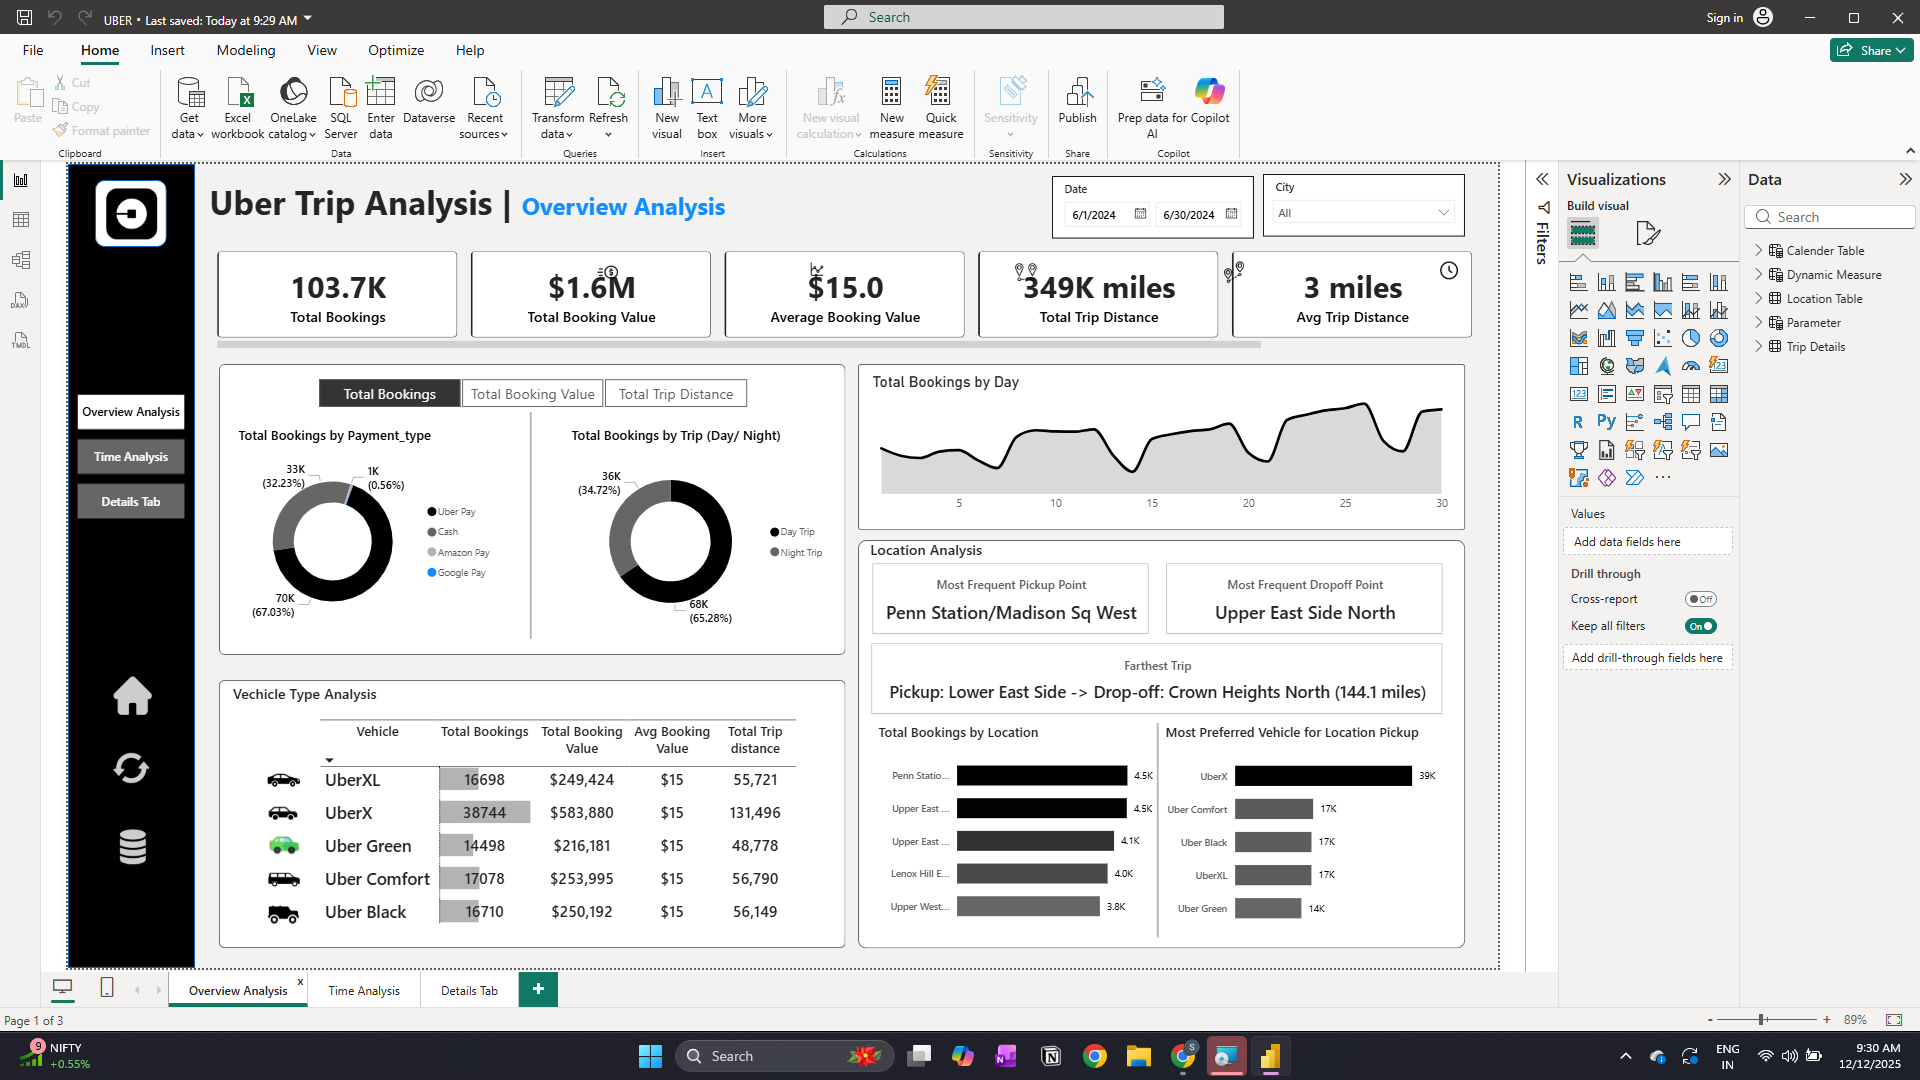

The dashboard page shown, as its layout file describes it:
{"tool":"powerbi","page":{"name":"Overview Analysis","canvas":[1600,900],"ordinal":0},"visuals":[{"type":"shape","box":[0,0,142,899.7],"z":0},{"type":"textbox","box":[152.8,12.6,666.8,69.5],"z":1000},{"type":"cardVisual","fields":{"Data":["Trip Details.Total Bookings","Trip Details.Total Booking Amount","Trip Details.Average Booking Amount","Trip Details.Total Trip Distance","Trip Details.Avg Trip Distance","Trip Details.Avg Trip Time"]},"box":[162,93,1415,120],"z":2000},{"type":"image","box":[587.2,103.6,32.8,34.1],"z":3000},{"type":"image","box":[1051.9,103.6,39.1,34.1],"z":4000},{"type":"image","box":[1285.6,103.6,41.7,34.1],"z":5000},{"type":"image","box":[819.6,103.6,37.9,26.5],"z":6000},{"type":"image","box":[1528,103.6,35.4,30.3],"z":7000},{"type":"shape","box":[168.6,224.3,701.4,325.7],"z":8000},{"type":"slicer","fields":{"Values":["Dynamic Measure.Dynamic Measure"]},"box":[255.7,234.3,528.6,44.3],"z":9000},{"type":"donutChart","fields":{"Y":["Trip Details.Total Bookings"],"Category":["Trip Details.Payment_type"]},"box":[185.7,292.9,300,238.6],"z":10000},{"type":"donutChart","fields":{"Y":["Trip Details.Total Bookings"],"Category":["Trip Details.Trip Type (Day/ Night)"]},"box":[558.6,292.9,300,238.6],"z":11000},{"type":"shape","box":[168.6,577.1,701.4,300],"z":12000},{"type":"pivotTable","fields":{"Rows":["Trip Details.Vehicle"],"Values":["Trip Details.Total Bookings","Trip Details.Total Booking Value","Trip Details.Average Booking Value","Trip Details.Total Trip distance Measure"]},"box":[277.1,617.1,561.4,245.7],"z":13000},{"type":"image","box":[212.9,817.1,57.1,45.7],"z":14000},{"type":"image","box":[215.7,662.9,51.4,54.3],"z":15000},{"type":"image","box":[217.1,774.3,48.6,52.9],"z":16000},{"type":"image","box":[220,740,42.9,44.3],"z":17000},{"type":"image","box":[208.6,705.7,64.3,42.9],"z":18000},{"type":"cardVisual","fields":{"Data":["Trip Details.Title for Grid"]},"box":[164.3,560,201.4,57.1],"z":19000},{"type":"shape","box":[883.9,223.7,679.6,186],"z":20000},{"type":"areaChart","fields":{"Category":["Calender Table.Date.Variation.Date Hierarchy.Day"],"Y":["Trip Details.Total Bookings"]},"box":[895.7,234.3,657,164.3],"z":21000},{"type":"shape","box":[883.9,420.7,679.6,457.1],"z":22000},{"type":"cardVisual","fields":{"Data":["Trip Details.Most Frequent Pickup Point","Trip Details.Most Frequent Dropoff Point"]},"box":[895.8,442.1,649.4,90],"z":23000},{"type":"cardVisual","fields":{"Data":["Trip Details.Farthest Trip"]},"box":[894.5,532,649.4,90],"z":24000},{"type":"barChart","fields":{"Category":["Location Table.Location"],"Y":["Trip Details.Total Bookings"]},"box":[902.4,625.9,320.8,237.3],"z":25000},{"type":"barChart","title":"Most Preferred Vehicle for Location Pickup","fields":{"Category":["Trip Details.Vehicle"],"Y":["CountNonNull(Trip Details.PULocationID)"]},"box":[1223.1,625.9,320.8,239.9],"z":26000},{"type":"shape","box":[500.7,277.8,35.2,254.3],"z":27000},{"type":"shape","box":[1202.3,625.9,35.2,239.9],"z":28000},{"type":"cardVisual","fields":{"Data":["Trip Details.Title for Location"]},"box":[869.8,399,182.6,57.4],"z":29000},{"type":"slicer","fields":{"Values":["Calender Table.Date"]},"box":[1101.9,13,225.6,70.4],"z":30000},{"type":"slicer","fields":{"Values":["Location Table.City"]},"box":[1337.9,11.7,225.6,70.4],"z":31000},{"type":"shape","box":[30.3,18.4,80.3,75],"z":31001},{"type":"image","box":[35.5,22.4,71.1,67.1],"z":31002},{"type":"pageNavigator","box":[10.5,257.9,121.1,140.8],"z":31003},{"type":"image","box":[46.1,568.4,52.6,52.6],"z":31004},{"type":"image","box":[46.1,648.7,50,55.3],"z":31006},{"type":"image","box":[43.4,739.5,57.9,48.7],"z":31007}]}

Visuals, with their boxes on the page's 1600x900 design canvas (x1, y1, x2, y2). These are canvas units, not pixel positions in the 1920x1080 screenshot, which may show the page scaled, cropped or inside an application window:
shape: detection(0, 0, 142, 900)
textbox: detection(153, 13, 820, 82)
cardVisual - Trip Details.Total Bookings x Trip Details.Total Booking Amount: detection(162, 93, 1577, 213)
image: detection(587, 104, 620, 138)
image: detection(1052, 104, 1091, 138)
image: detection(1286, 104, 1327, 138)
image: detection(820, 104, 858, 130)
image: detection(1528, 104, 1563, 134)
shape: detection(169, 224, 870, 550)
slicer - Dynamic Measure.Dynamic Measure: detection(256, 234, 784, 279)
donutChart - Trip Details.Total Bookings x Trip Details.Payment_type: detection(186, 293, 486, 532)
donutChart - Trip Details.Total Bookings x Trip Details.Trip Type (Day/ Night): detection(559, 293, 859, 532)
shape: detection(169, 577, 870, 877)
pivotTable - Trip Details.Vehicle x Trip Details.Total Bookings: detection(277, 617, 838, 863)
image: detection(213, 817, 270, 863)
image: detection(216, 663, 267, 717)
image: detection(217, 774, 266, 827)
image: detection(220, 740, 263, 784)
image: detection(209, 706, 273, 749)
cardVisual - Trip Details.Title for Grid: detection(164, 560, 366, 617)
shape: detection(884, 224, 1564, 410)
areaChart - Calender Table.Date.Variation.Date Hierarchy.Day x Trip Details.Total Bookings: detection(896, 234, 1553, 399)
shape: detection(884, 421, 1564, 878)
cardVisual - Trip Details.Most Frequent Pickup Point x Trip Details.Most Frequent Dropoff Point: detection(896, 442, 1545, 532)
cardVisual - Trip Details.Farthest Trip: detection(894, 532, 1544, 622)
barChart - Location Table.Location x Trip Details.Total Bookings: detection(902, 626, 1223, 863)
"Most Preferred Vehicle for Location Pickup" barChart: detection(1223, 626, 1544, 866)
shape: detection(501, 278, 536, 532)
shape: detection(1202, 626, 1238, 866)
cardVisual - Trip Details.Title for Location: detection(870, 399, 1052, 456)
slicer - Calender Table.Date: detection(1102, 13, 1328, 83)
slicer - Location Table.City: detection(1338, 12, 1564, 82)
shape: detection(30, 18, 111, 93)
image: detection(36, 22, 107, 90)
pageNavigator: detection(10, 258, 132, 399)
image: detection(46, 568, 99, 621)
image: detection(46, 649, 96, 704)
image: detection(43, 740, 101, 788)
